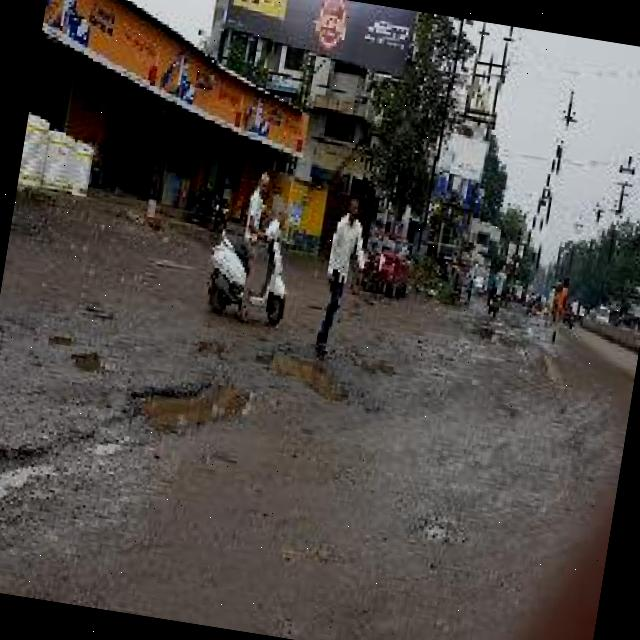stagnation: (115, 354, 251, 449), (249, 340, 367, 414)
